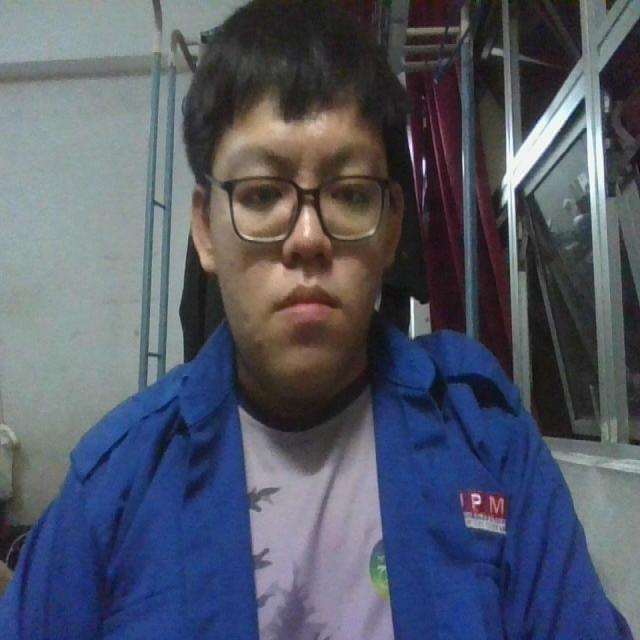person_with_labcoat: (0, 0, 630, 639), (370, 322, 630, 639)
